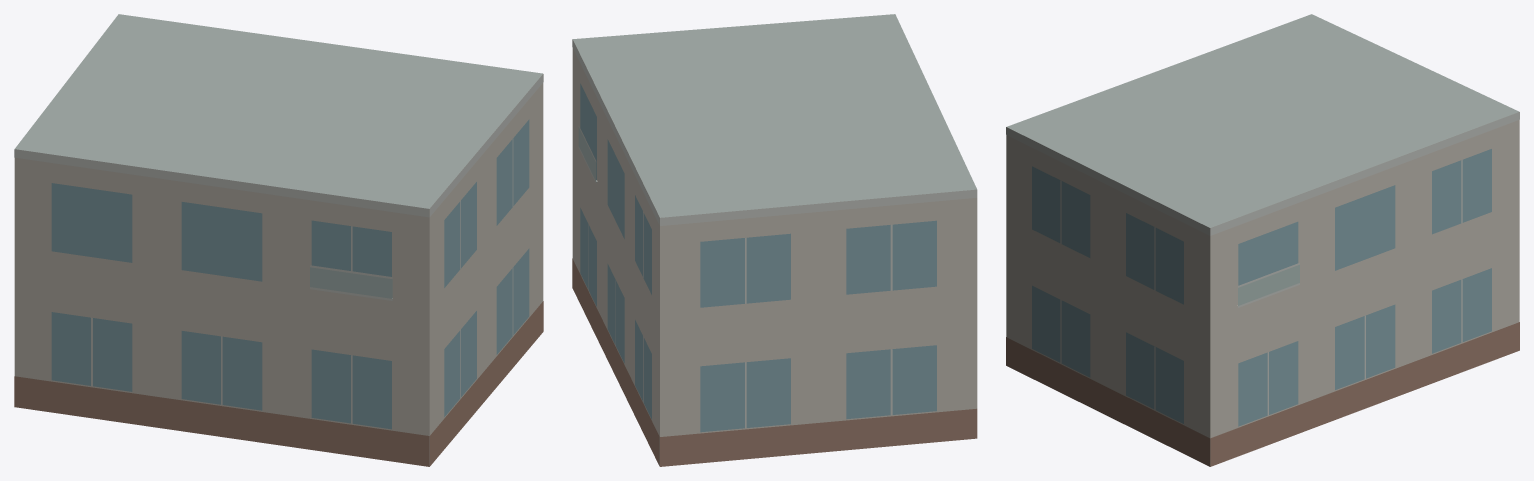
File: survey-upis-32493255.glb
3 renders of one model, left to right at view 1: azimuth 30°, elevation 25°; view 2: azimuth 150°, elevation 25°; view 3: azimuth 270°, elevation 25°, orthographic. The views are drawn at different scales.
Parts seen in each view (by area): view 1: survey-upis-32493255.tmp; view 2: survey-upis-32493255.tmp; view 3: survey-upis-32493255.tmp.
Boxes of the visible parts, x1,y1,x2,y2 form: survey-upis-32493255.tmp: (14, 14, 543, 466); survey-upis-32493255.tmp: (572, 14, 977, 466); survey-upis-32493255.tmp: (1006, 14, 1519, 466).
Bounding box in the file's own units: 14.24 × 7.4 × 14.43.
